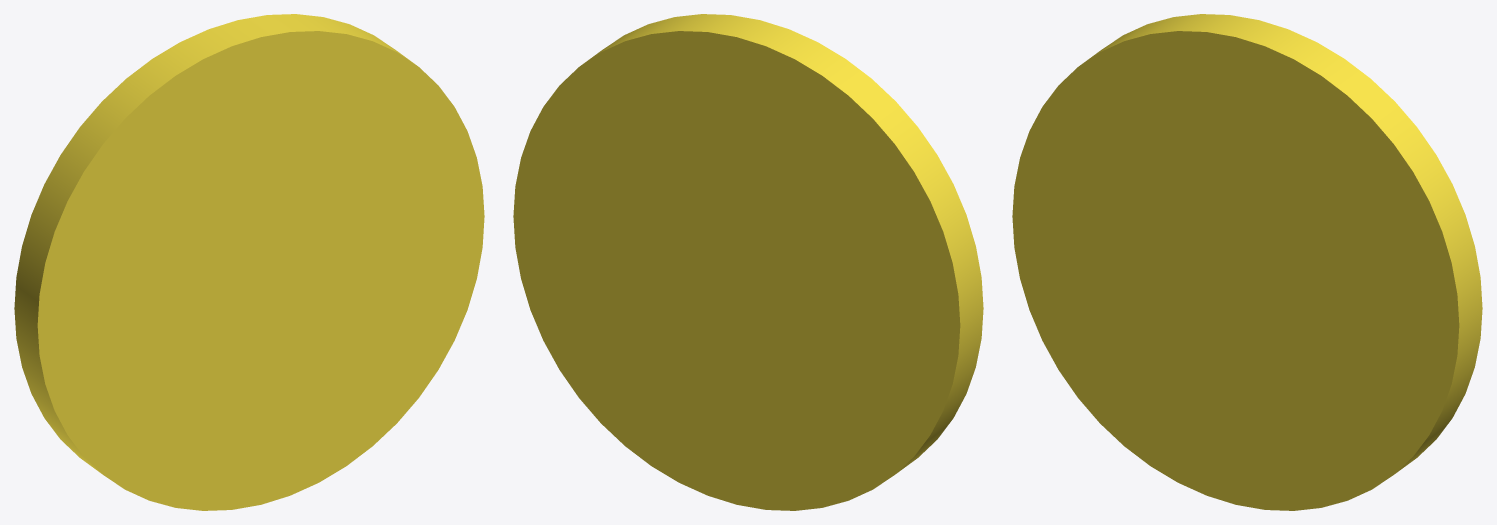
Rendered from badge_dash.glb.
3 views of the same model, side by side, from view 1: azimuth 30°, elevation 25°; view 2: azimuth 150°, elevation 25°; view 3: azimuth 330°, elevation 25° (orthographic).
Parts seen in each view (by area): view 1: badge; view 2: badge; view 3: badge.
Boxes of the visible parts, x1,y1,x2,y2 form: badge: (14, 14, 484, 510); badge: (513, 14, 983, 510); badge: (1012, 14, 1482, 510).
Size of the model in its own units: 2 by 2 by 0.18.
